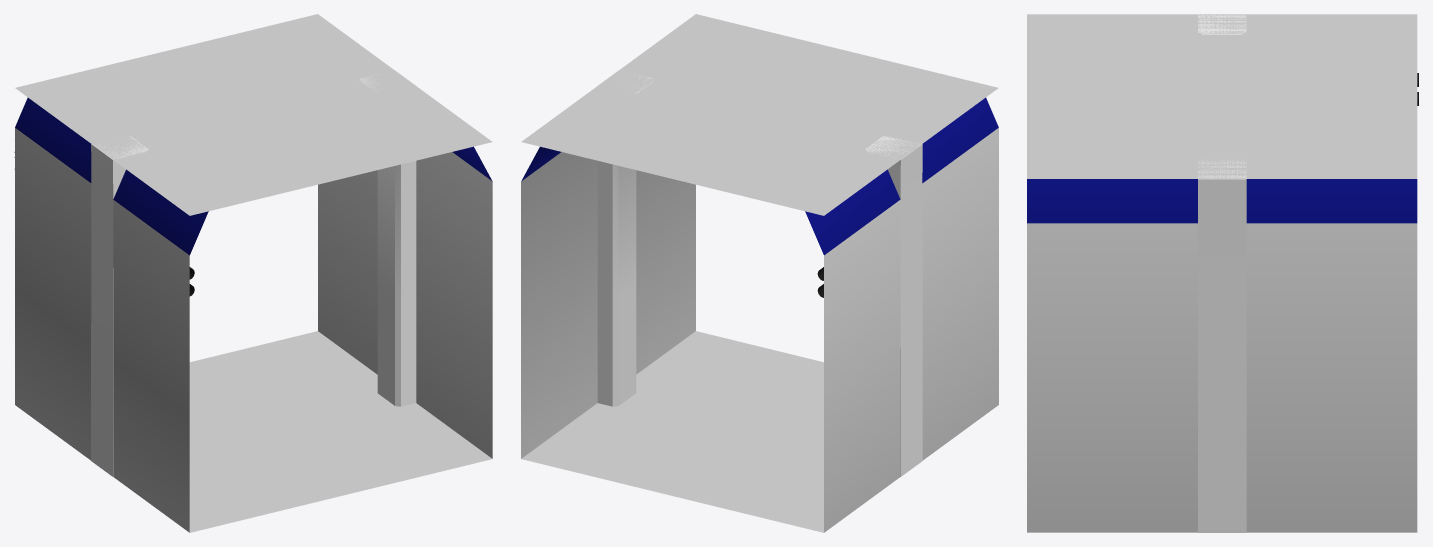
The model's file is Corridor.FBX.
3 renders of one model, left to right at view 1: azimuth 30°, elevation 25°; view 2: azimuth 150°, elevation 25°; view 3: azimuth 270°, elevation 25°, orthographic. The views are drawn at different scales.
Visible parts, largest first — view 1: Floor, Walls, Pillar; view 2: Floor, Walls, Pillar; view 3: Walls, Floor, Pillar.
Part boxes in pixels (x1,y1,x2,y2): Floor: (15,14,492,532); Walls: (15,97,492,532); Pillar: (91,70,416,476); Floor: (521,14,998,532); Walls: (521,97,998,532); Pillar: (597,70,922,476); Walls: (1027,179,1417,532); Floor: (1027,14,1417,178); Pillar: (1198,14,1246,532).
Bounding box in the file's own units: 4.01 × 4 × 4.02.
